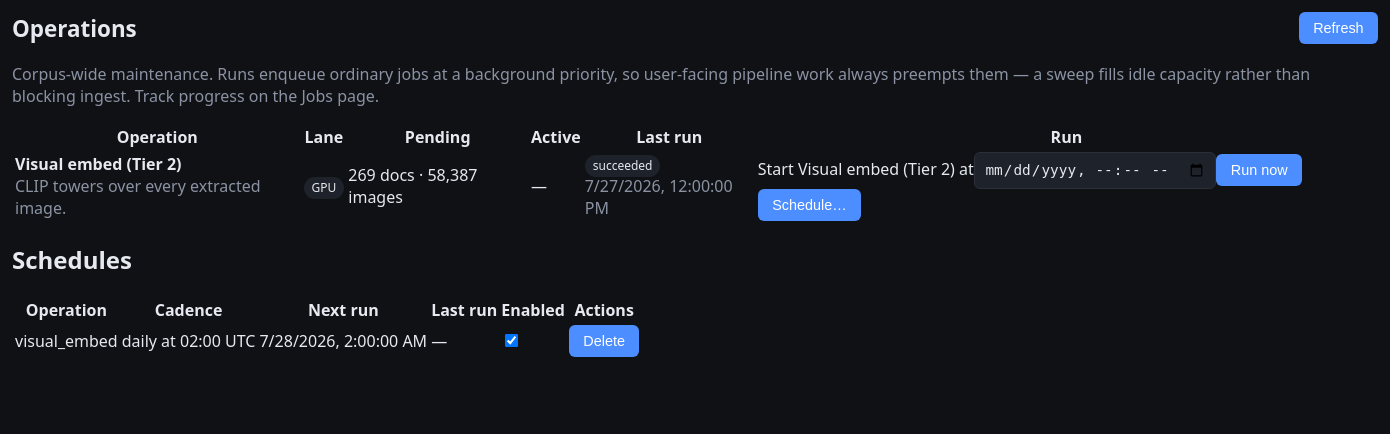
Scenario: OperationsPage › runs an operation immediately when no start time is set
Step 1. Click the button "Run now" → [1259, 170], box [1216,154,1302,186]
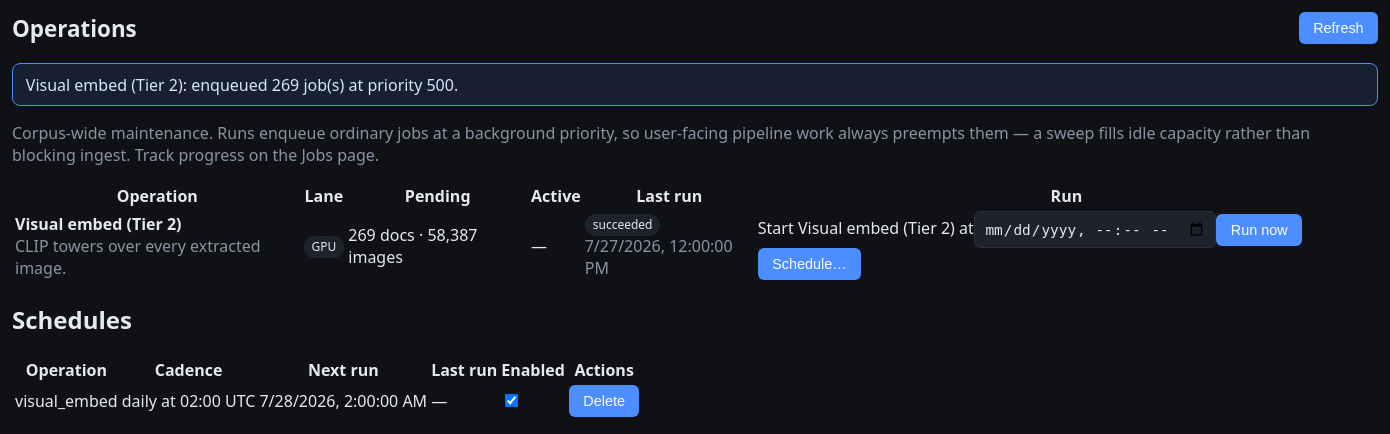
Check: the text "Visual embed (Tier 2): enqueued 269 job(s) at priority 500." is shown, box [12,63,1378,106]
